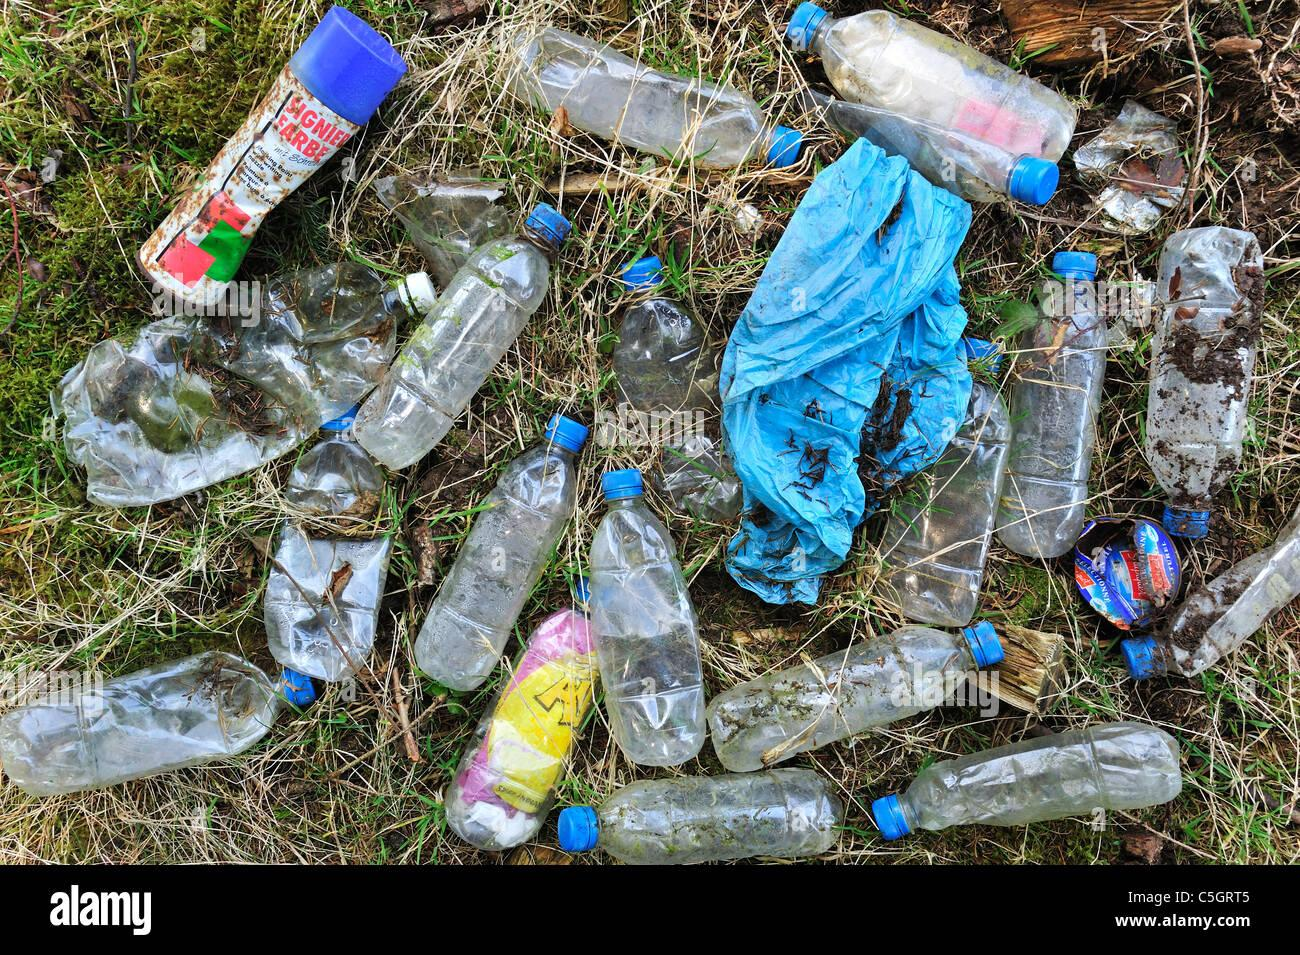bottle: (340, 185, 580, 475), (435, 555, 650, 850), (399, 406, 600, 709), (1115, 202, 1245, 556), (582, 436, 715, 780), (588, 246, 734, 538), (993, 219, 1117, 551), (12, 386, 142, 701), (46, 331, 443, 416), (860, 334, 973, 622), (628, 7, 685, 187), (1000, 704, 1064, 844), (836, 599, 883, 775), (109, 637, 160, 790), (1119, 574, 1300, 585), (695, 743, 705, 870), (914, 83, 920, 217), (925, 96, 936, 97)
